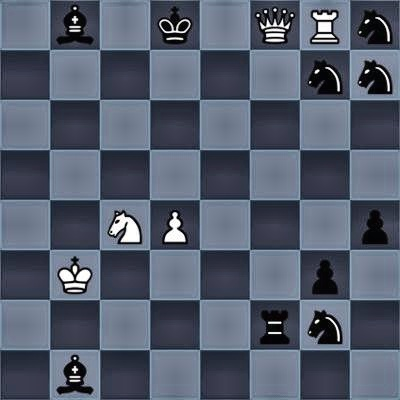black-bishop: (50, 0, 100, 50), (50, 350, 100, 400)
black-king: (150, 0, 200, 50)
black-knight: (350, 0, 400, 50), (300, 50, 350, 100), (350, 50, 400, 100), (300, 300, 350, 350)
black-pawn: (350, 200, 400, 250), (300, 250, 350, 300)
black-rook: (250, 300, 300, 350)
white-king: (50, 250, 100, 300)
white-knight: (100, 200, 150, 250)
white-pawn: (150, 200, 200, 250)
white-queen: (250, 0, 300, 50)
white-rook: (300, 0, 350, 50)
